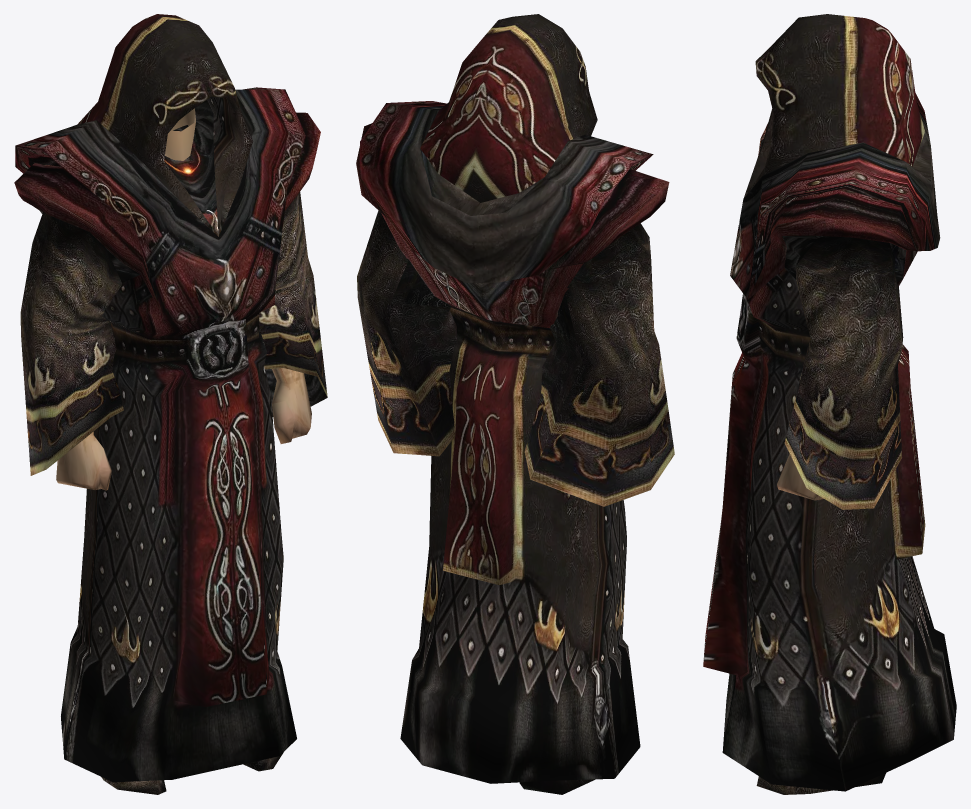
The model's file is ARMOR_KDF_Q.glb.
3 renders of one model, left to right at view 1: azimuth 30°, elevation 25°; view 2: azimuth 150°, elevation 25°; view 3: azimuth 270°, elevation 25°, orthographic.
Visible parts, largest first — view 1: ARMOR_KDF_Q; view 2: ARMOR_KDF_Q; view 3: ARMOR_KDF_Q.
Boxes of the visible parts, left/top/right/bottom form: ARMOR_KDF_Q: left=14, top=14, right=327, bottom=794; ARMOR_KDF_Q: left=356, top=14, right=674, bottom=794; ARMOR_KDF_Q: left=703, top=14, right=956, bottom=794.
Size of the model in its own units: 0.7712 by 1.89 by 0.5854.
Materials: 2 (2 with a texture image).
